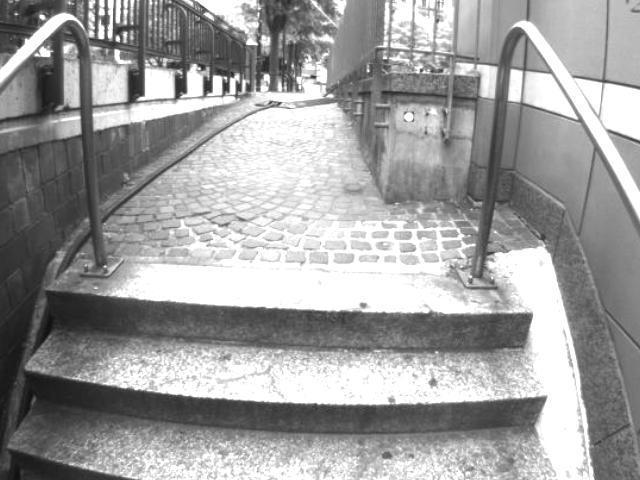Escaleras: (32, 259, 543, 480)
